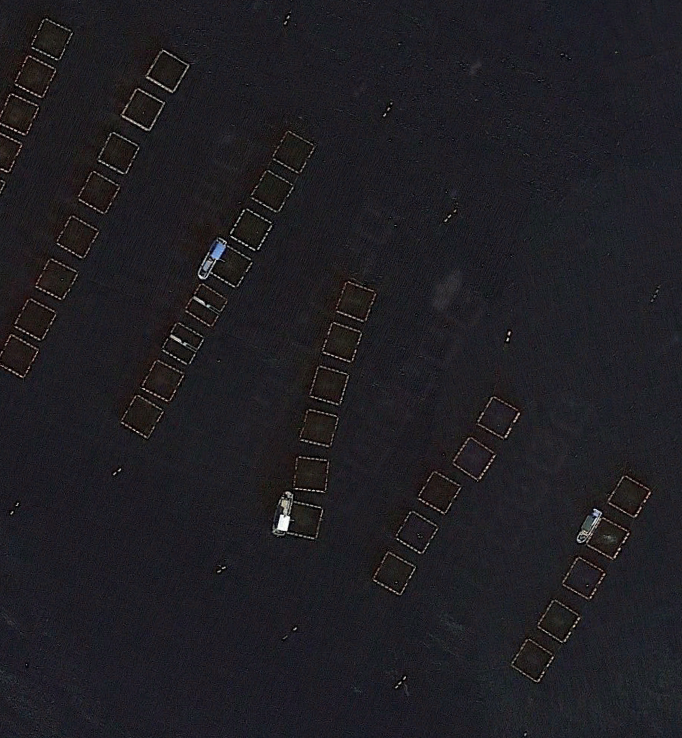ship: (193, 234, 232, 281), (270, 487, 299, 541), (572, 502, 606, 548)
square: (554, 550, 609, 602), (207, 243, 261, 295), (367, 550, 424, 599), (73, 170, 126, 221), (49, 212, 102, 263), (583, 510, 634, 561), (227, 205, 276, 257), (386, 504, 436, 554), (158, 319, 209, 368), (271, 127, 321, 176), (510, 632, 557, 684), (448, 432, 499, 479), (415, 463, 462, 514), (99, 128, 144, 181), (140, 358, 189, 406), (32, 255, 79, 305), (281, 499, 327, 550), (11, 295, 59, 343), (25, 15, 76, 60), (122, 85, 168, 134), (119, 389, 165, 438), (307, 360, 354, 407), (541, 598, 588, 645), (607, 467, 653, 515), (476, 390, 521, 439), (284, 450, 334, 494), (143, 44, 189, 91), (185, 281, 231, 328), (7, 55, 57, 97), (296, 405, 341, 450), (320, 319, 366, 363), (250, 168, 295, 212), (338, 279, 379, 321)
